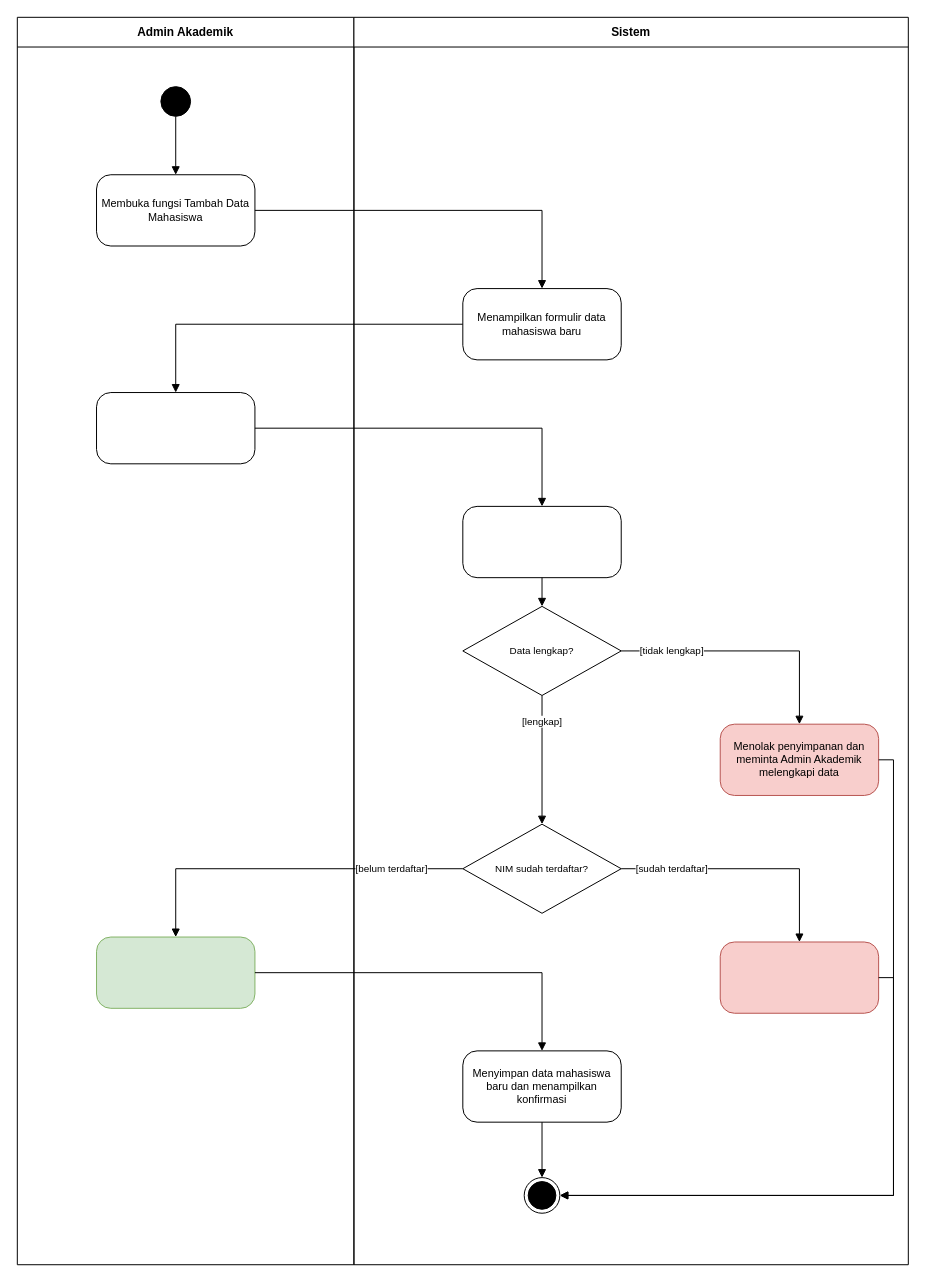
Some shapes in this 926 by 1282 pixel diagram are drawn without their labels. The centre of each missing label's shape, as x and y in pixels:
Memeriksa kelengkapan data dan keunikan NIM: point (541, 541)
Mengisi NIM, nama, dan program studi mahasiswa baru: point (175, 428)
Menolak penyimpanan dan menampilkan pesan NIM sudah terdaftar: point (799, 977)
Menyimpan data: point (175, 972)
